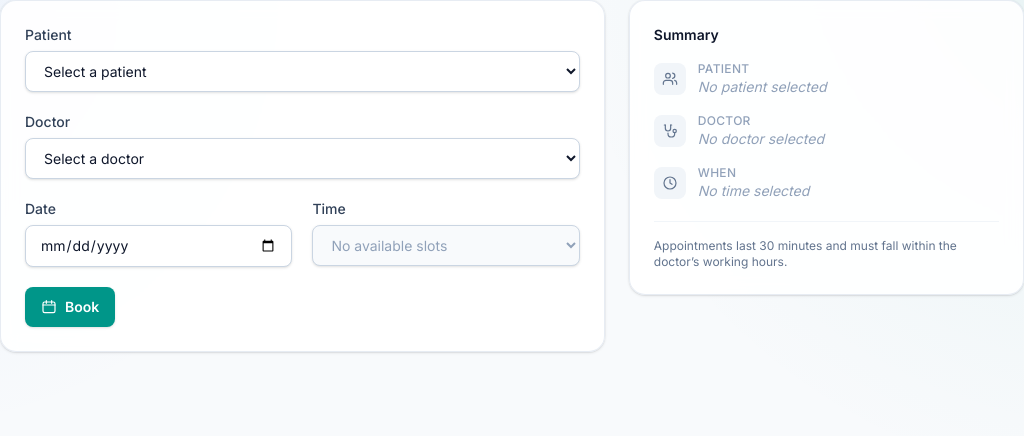
BookAppointment › submits booking with correct payload and shows confirmation
Select "Jane Doe" in the dropdown labelled "Patient" at (302, 72), box [25,51,580,92]
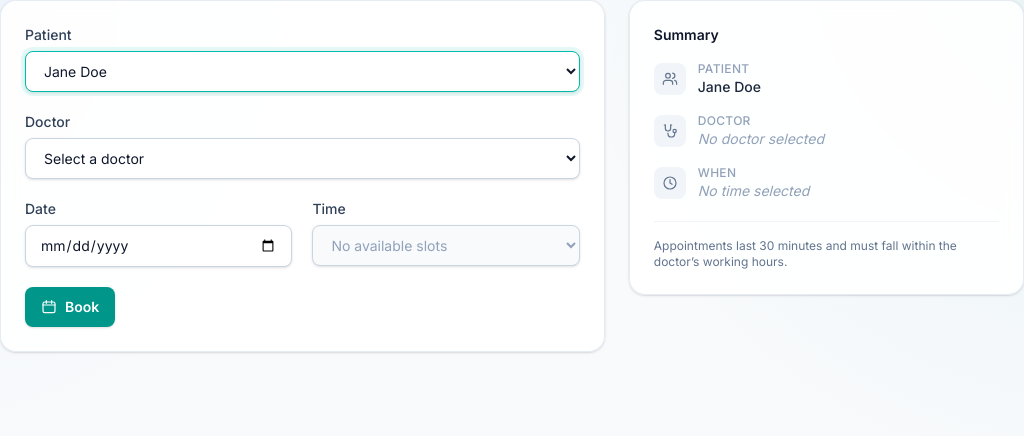
Select "Dr. Smith (Cardiology)" in the dropdown labelled "Doctor" at (302, 158), box [25,138,580,179]
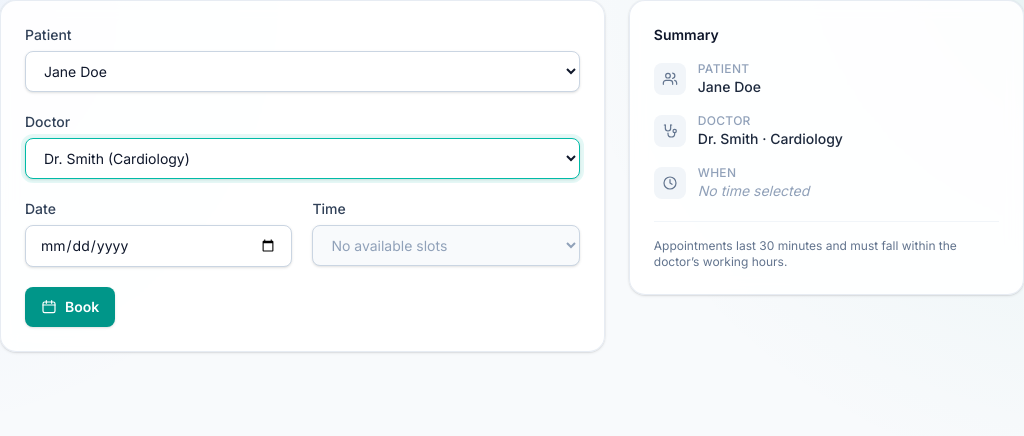
Type "2026-07-14" into the date field labelled "Date".
click(159, 246); type("2026-07-14")  # box [25,225,292,267]
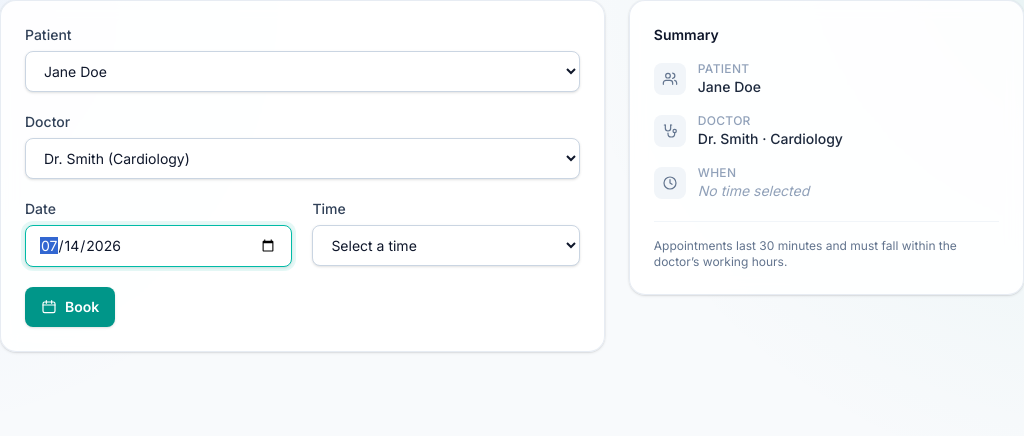
Select "09:00" in the dropdown labelled "Time" at (446, 246), box [312,225,580,266]
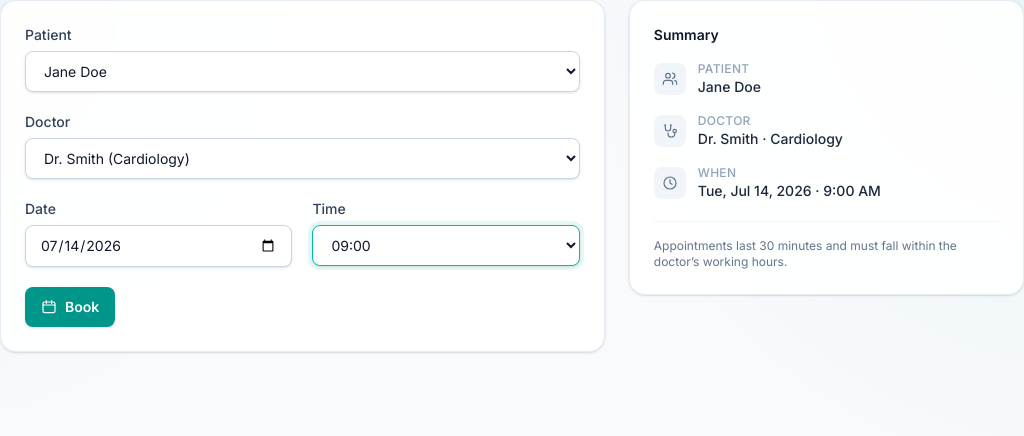
Click the button "Book".
click(70, 307)  # box [25,287,115,327]
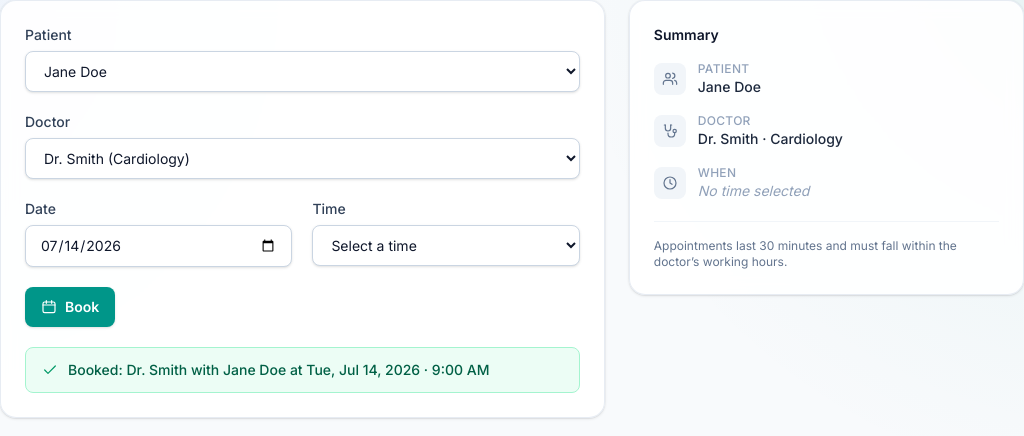
Expected: the text "Booked: Dr. Smith with Jane Doe" is shown, [68,360,489,380]
